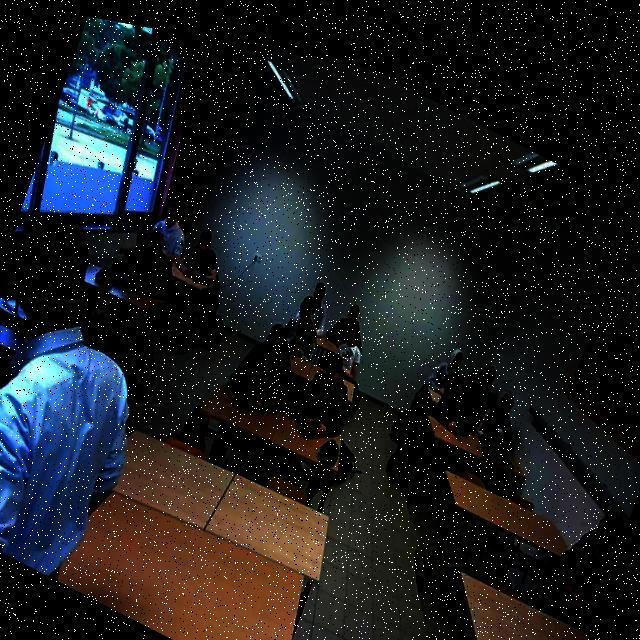phone_use: (524, 497, 638, 638), (105, 211, 183, 307), (286, 346, 357, 436), (226, 323, 290, 412), (474, 364, 513, 444), (428, 349, 468, 424), (285, 281, 324, 355), (171, 229, 217, 290), (325, 303, 360, 375), (462, 364, 497, 413), (325, 303, 360, 347), (294, 281, 324, 329), (425, 347, 461, 386)
